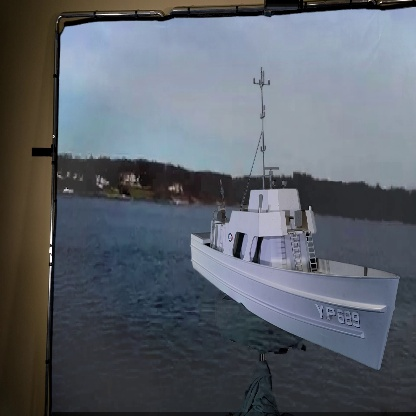YP689: (190, 70, 400, 374)
